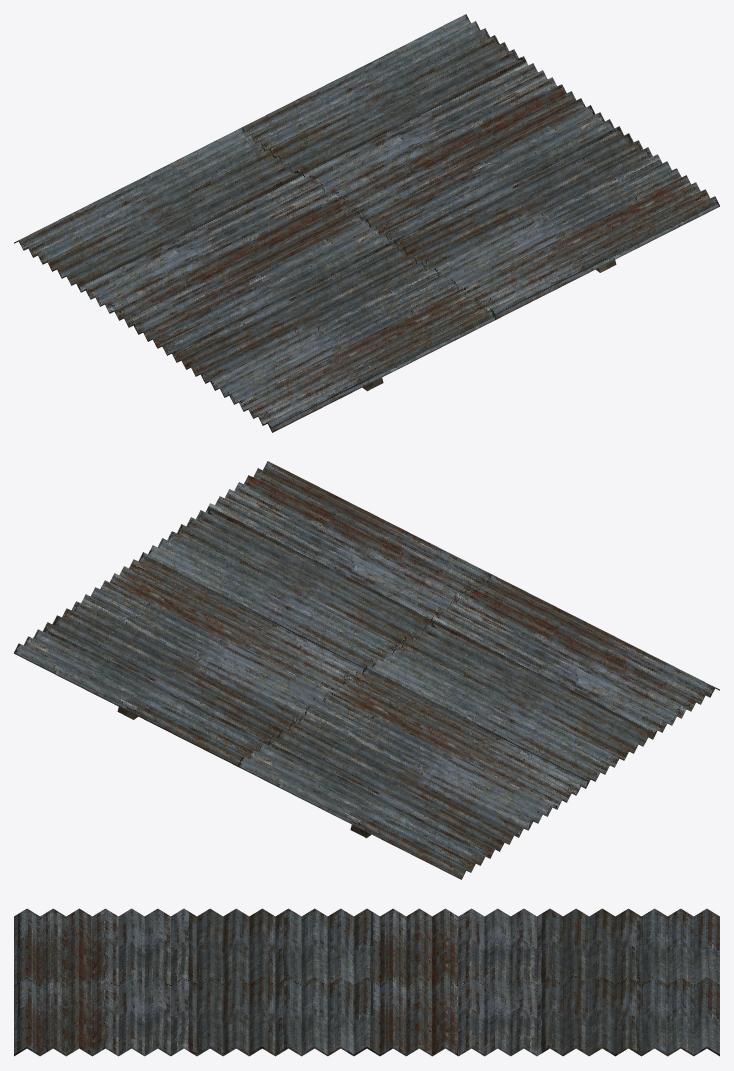
File: roof_hr_3_middle_angle.glb
3 views of the same model, one above another, from view 1: azimuth 30°, elevation 25°; view 2: azimuth 150°, elevation 25°; view 3: azimuth 270°, elevation 25° (orthographic). The views are drawn at different scales.
Parts seen in each view (by area): view 1: roof_hr_3_middle_angle; view 2: roof_hr_3_middle_angle; view 3: roof_hr_3_middle_angle.
Boxes of the visible parts, x1,y1,x2,y2 form: roof_hr_3_middle_angle: (14,14,719,432); roof_hr_3_middle_angle: (14,461,719,879); roof_hr_3_middle_angle: (14,908,719,1056).
Size of the model in its own units: 4 by 1.06 by 4.
2 materials, 2 textured.
